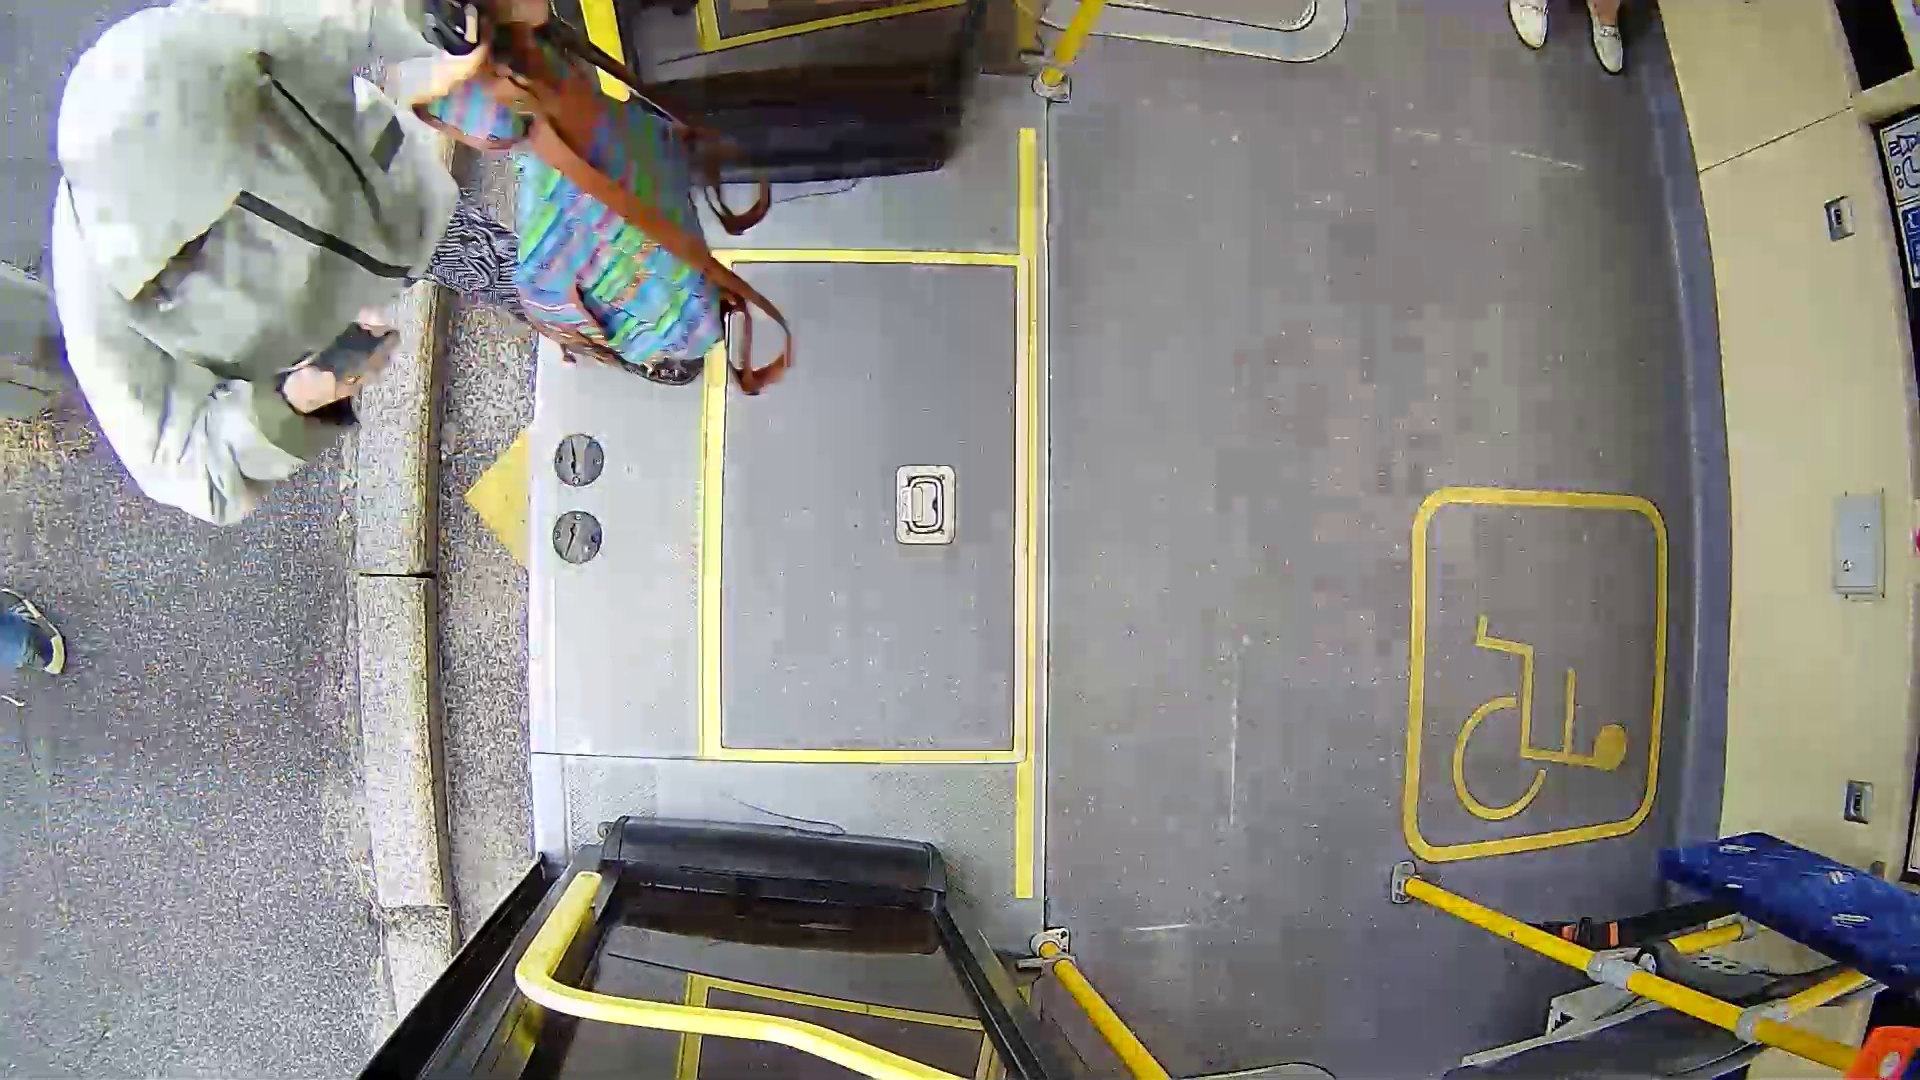person: (69, 32, 736, 526)
